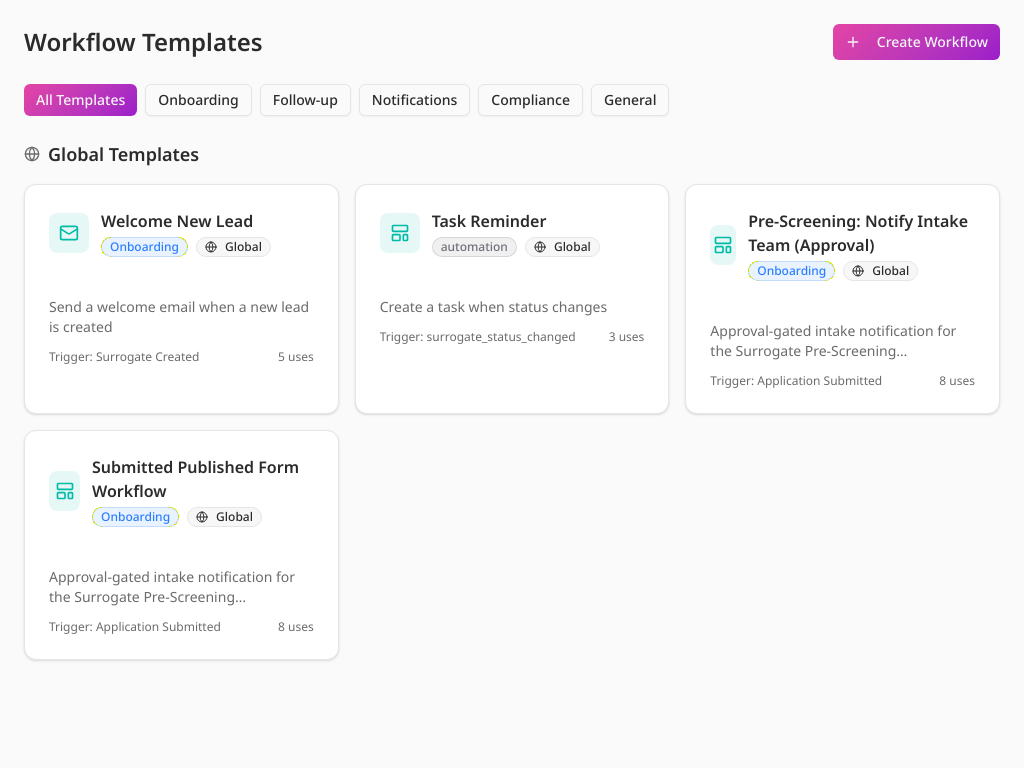
it: WorkflowTemplatesPanel › does not show email template selection for templates without send_email actions
The image size is (1024, 768).
Click the button with aria-label "use template task reminder".
click(512, 299)  # box [355,184,669,414]
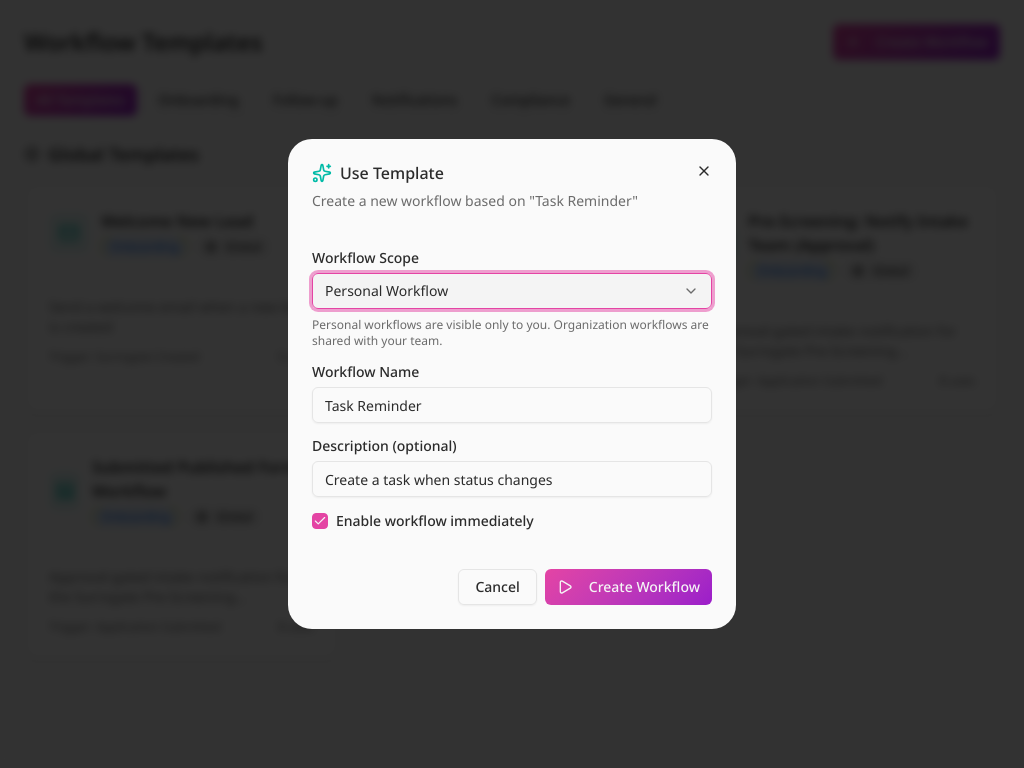
Check: the heading "Use Template" is shown, box [312,162,444,184]
